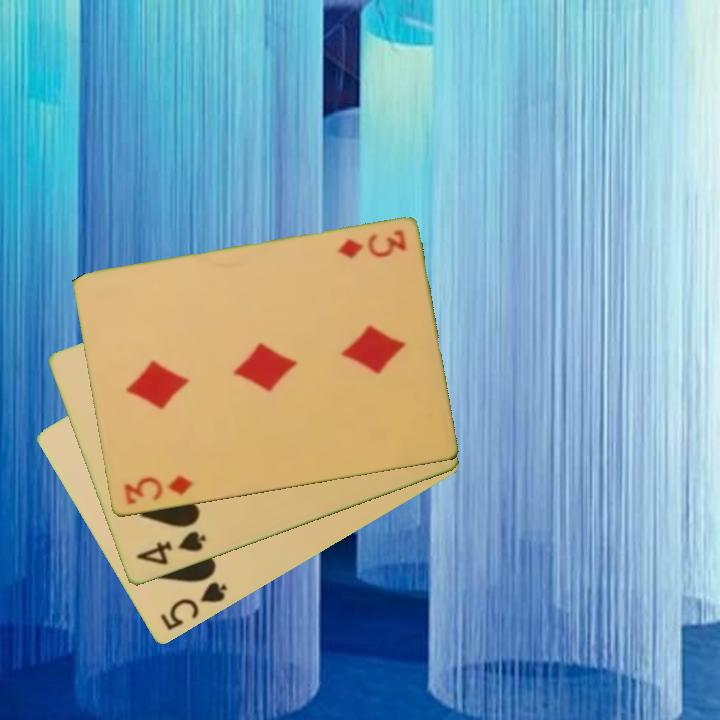3d: (333, 226, 409, 263), (120, 472, 195, 508)
4s: (132, 528, 209, 569)
5s: (156, 578, 230, 635)
